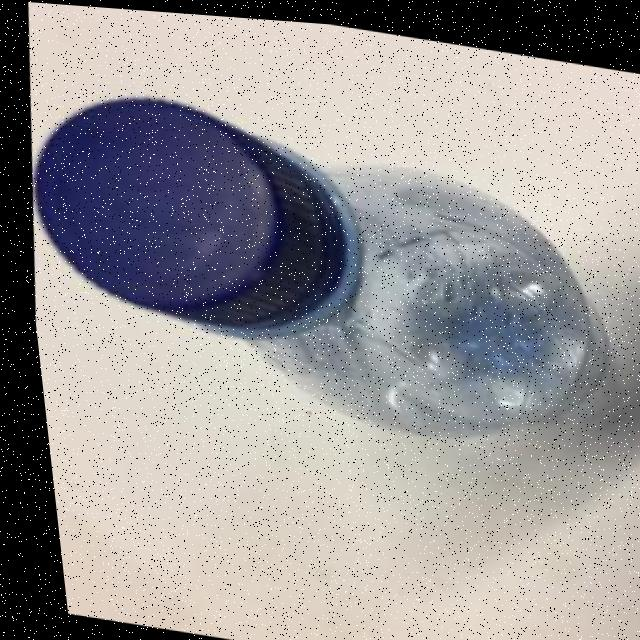plastic: (7, 77, 640, 476)
